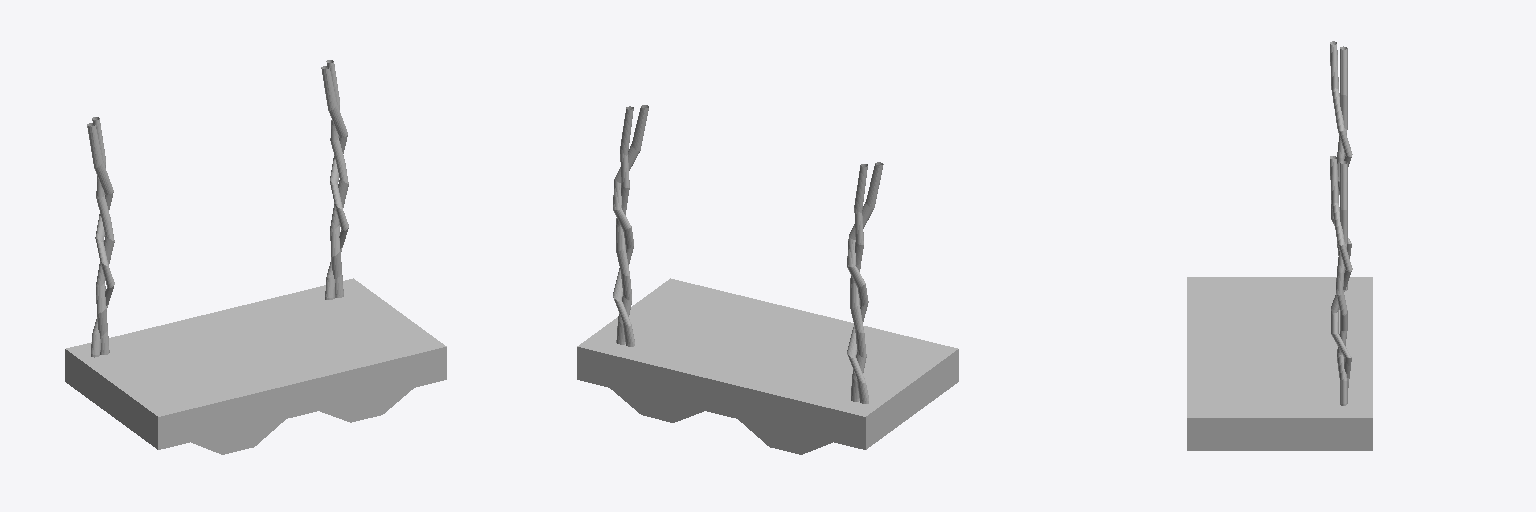
Rendered from Platform3.obj.
3 renders of one model, left to right at view 1: azimuth 30°, elevation 25°; view 2: azimuth 150°, elevation 25°; view 3: azimuth 270°, elevation 25°, orthographic.
Visible parts, largest first — view 1: polySurface18; view 2: polySurface18; view 3: polySurface18.
Part boxes in pixels (left/top/right/bottom): polySurface18: left=65, top=60, right=446, bottom=454; polySurface18: left=577, top=105, right=958, bottom=454; polySurface18: left=1187, top=41, right=1372, bottom=450.
Size of the model in its own units: 8.93 by 8.6 by 5.